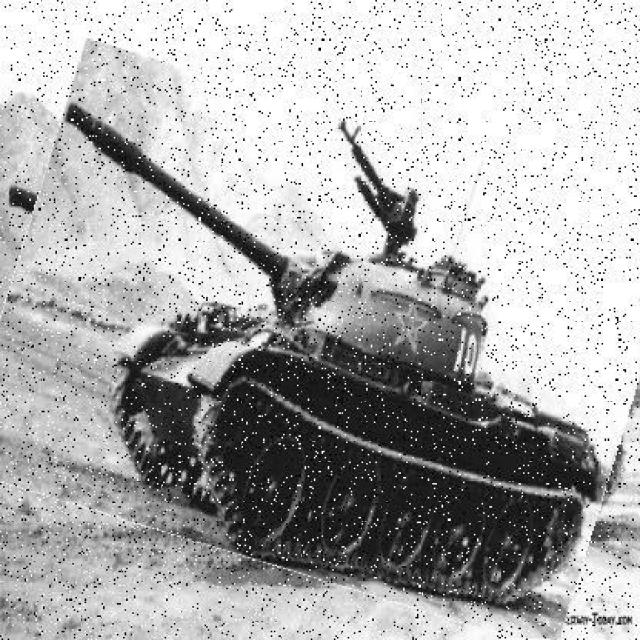Tank: (1, 79, 639, 611)
